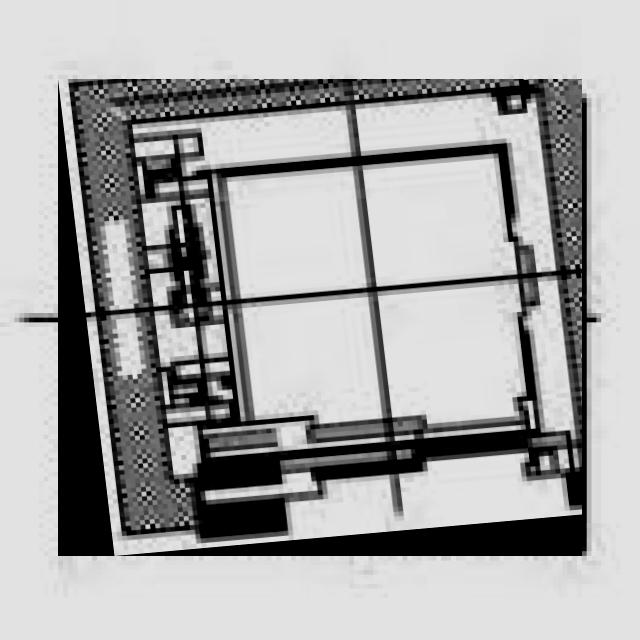lift: (58, 79, 582, 556)
